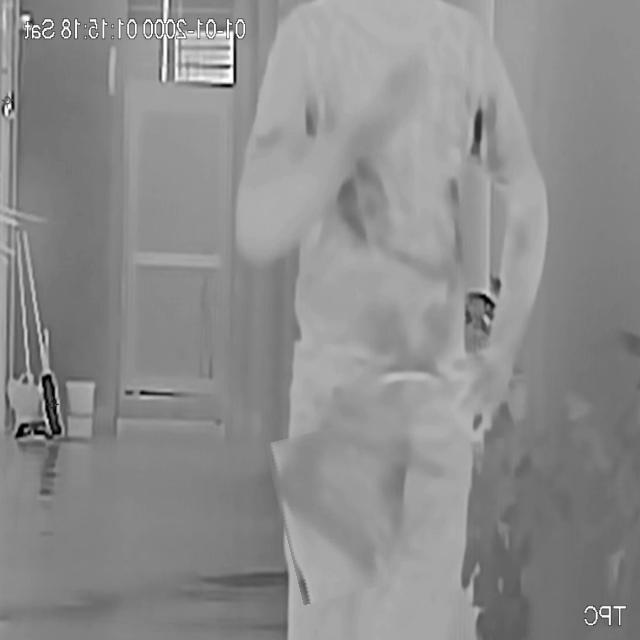Weapon: (273, 427, 381, 601)
